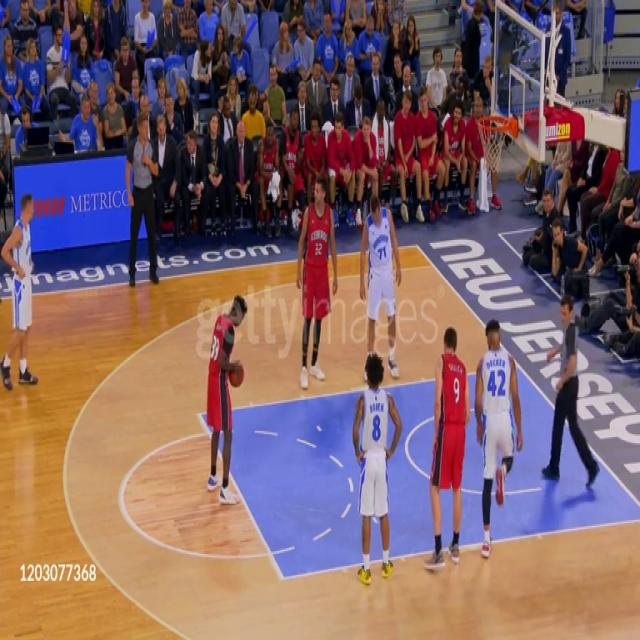ball: (227, 363, 246, 388)
